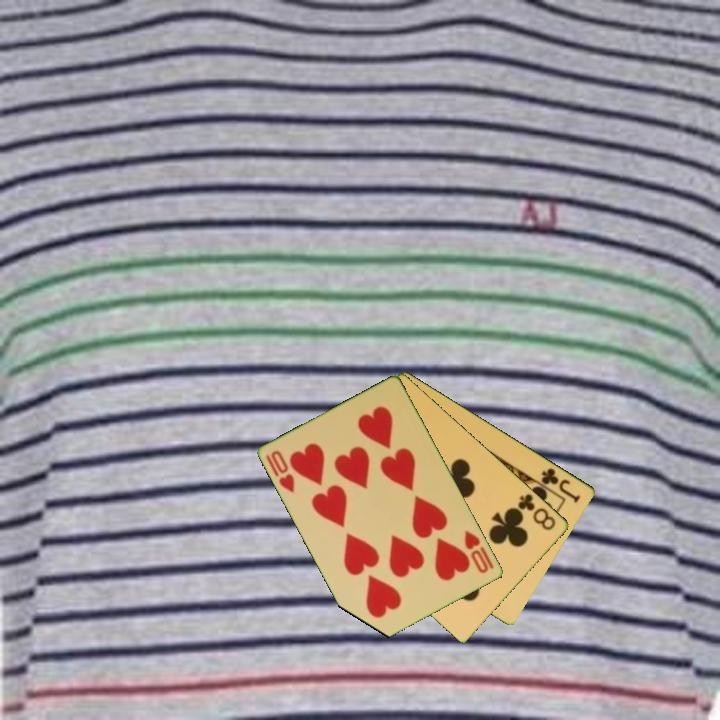10h: (262, 447, 298, 496), (461, 527, 492, 577)
8c: (514, 490, 559, 533)
Jc: (538, 464, 584, 505)
